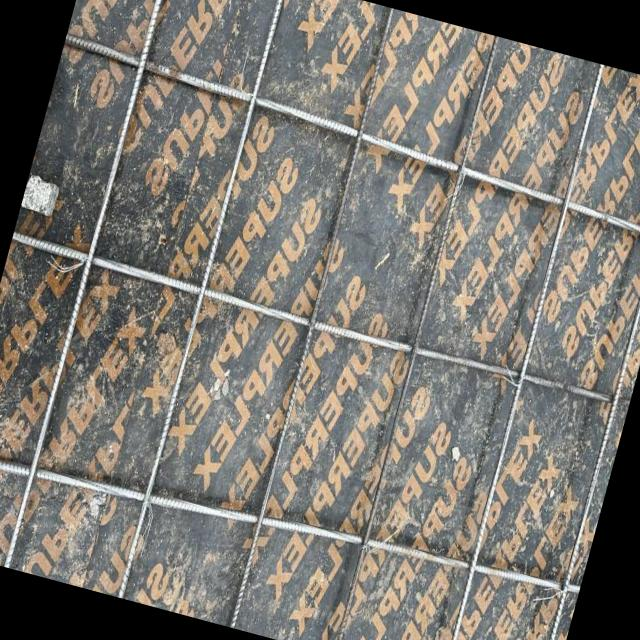ribbed bar: (54, 32, 640, 247), (0, 418, 580, 629), (9, 230, 630, 412), (222, 9, 400, 628), (327, 37, 502, 640), (114, 0, 288, 599), (431, 65, 610, 640), (1, 0, 175, 568), (524, 90, 640, 640)
